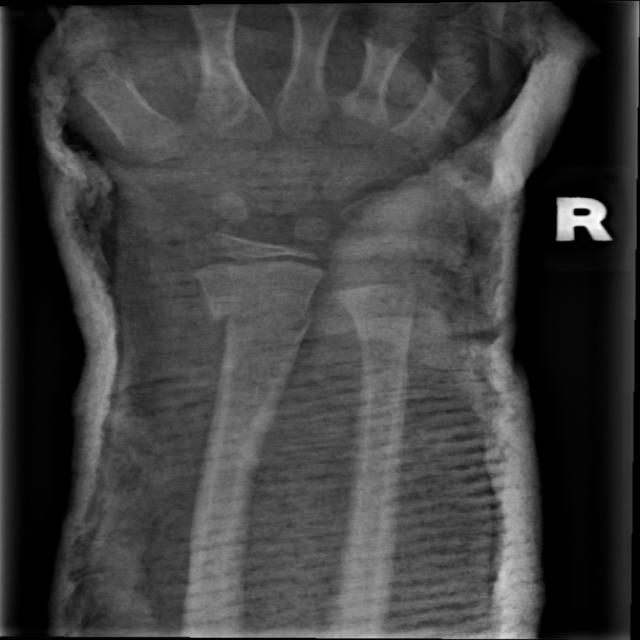radius fracture: (204, 291, 325, 368)
